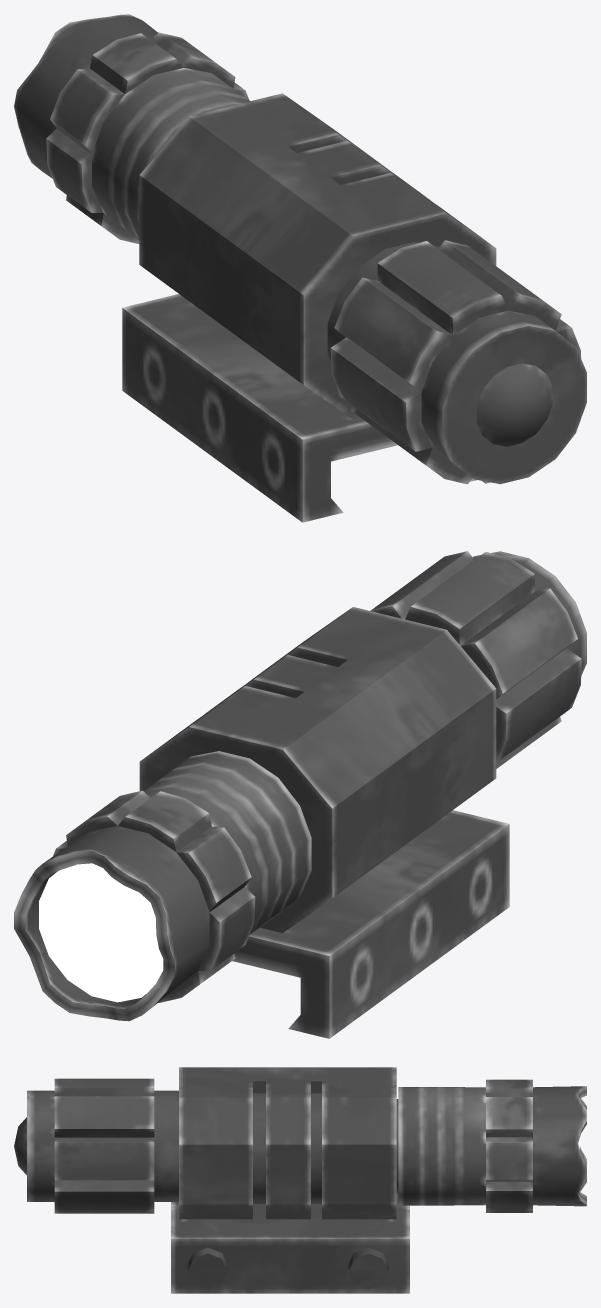
Rendered from IG_Acc_Tec_FlashLight.fbx.
3 renders of one model, top to bottom at view 1: azimuth 30°, elevation 25°; view 2: azimuth 150°, elevation 25°; view 3: azimuth 270°, elevation 25°, orthographic. The views are drawn at different scales.
Parts seen in each view (by area): view 1: Pfb_Tec_Flashlight_NON_1; view 2: Pfb_Tec_Flashlight_NON_1; view 3: Pfb_Tec_Flashlight_NON_1.
Part boxes in pixels (x1=…): Pfb_Tec_Flashlight_NON_1: x1=14, y1=14, x2=586, y2=522; Pfb_Tec_Flashlight_NON_1: x1=14, y1=551, x2=586, y2=1038; Pfb_Tec_Flashlight_NON_1: x1=14, y1=1067, x2=586, y2=1293.
Size of the model in its own units: 0.0838 by 0.0966 by 0.2823.
